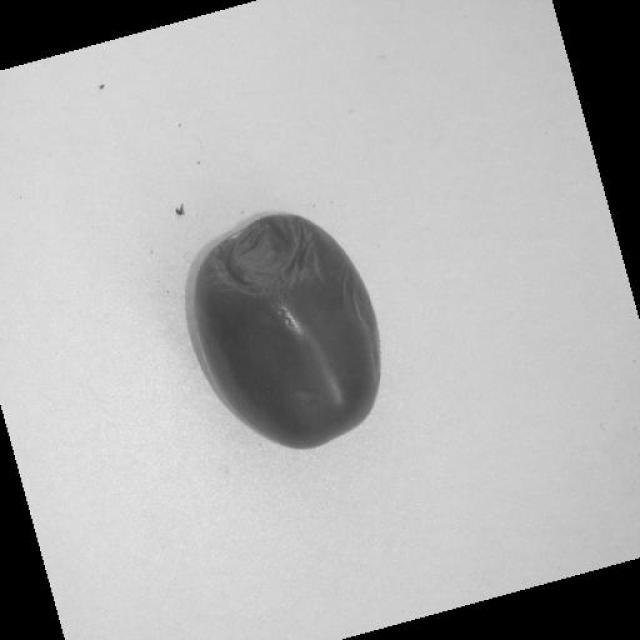Stale_tomato: (171, 203, 392, 460)
